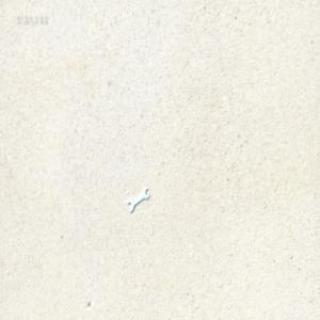Wrenchtrack_idkeyframe: (126, 186, 150, 213)
